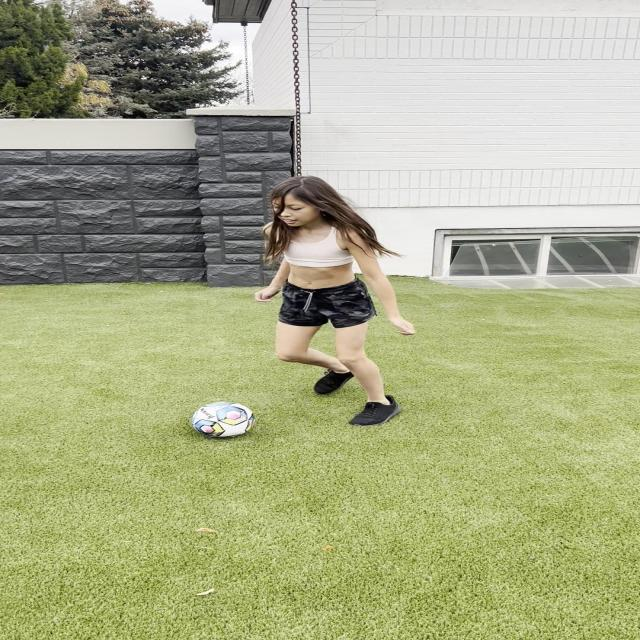Soccer Ball: (190, 402, 256, 437)
